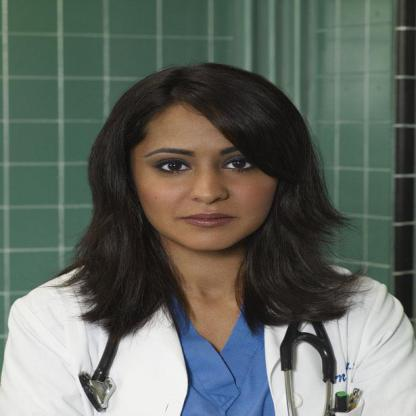long-hair: (45, 255, 362, 306)
